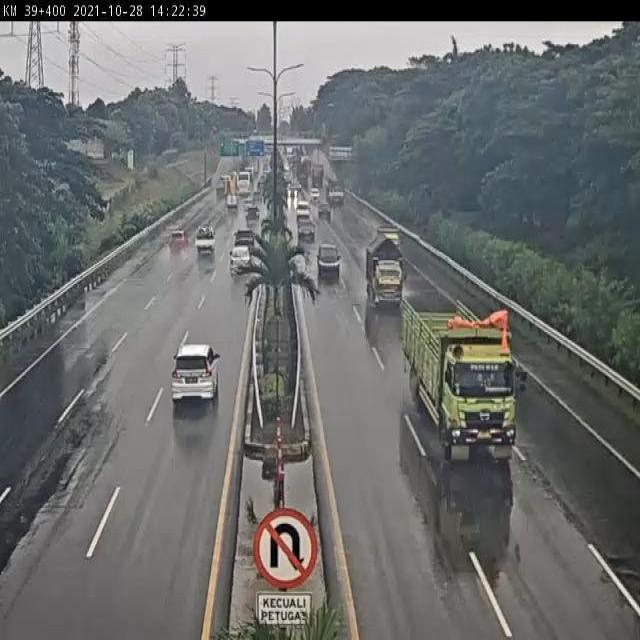truck-l-: (402, 295, 520, 461)
truck-s-: (366, 230, 410, 310)
